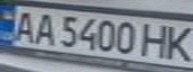0: (115, 19, 142, 55), (97, 18, 118, 53)
4: (75, 16, 100, 52)
5: (54, 12, 81, 48)
A: (9, 8, 39, 44), (30, 10, 57, 46)
H: (139, 20, 172, 60)
K: (163, 22, 193, 63)
